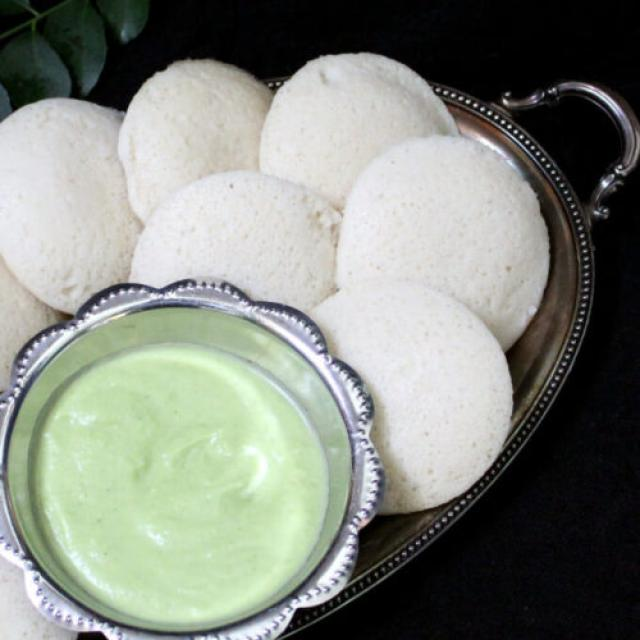chutney: (34, 348, 338, 621)
idli: (127, 51, 542, 306)
